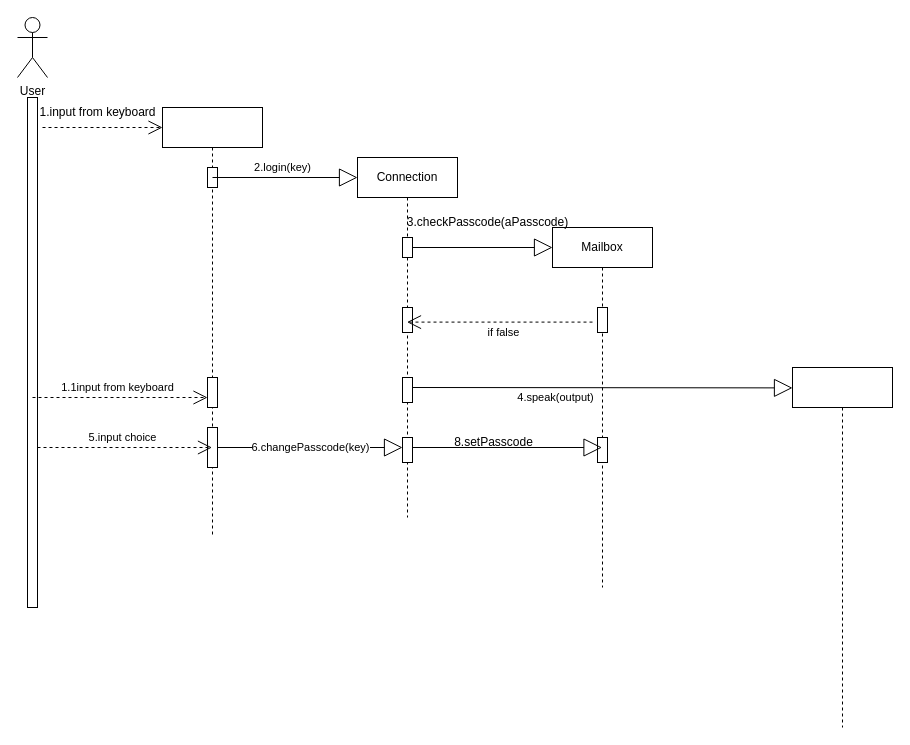
This 910x745 diagram has some shape labels left out. Here are the shapes that lost their labels. From the top down, the box of each, then its label:
(162, 106, 262, 538): MailSystemTester
(792, 366, 892, 728): Telephone
